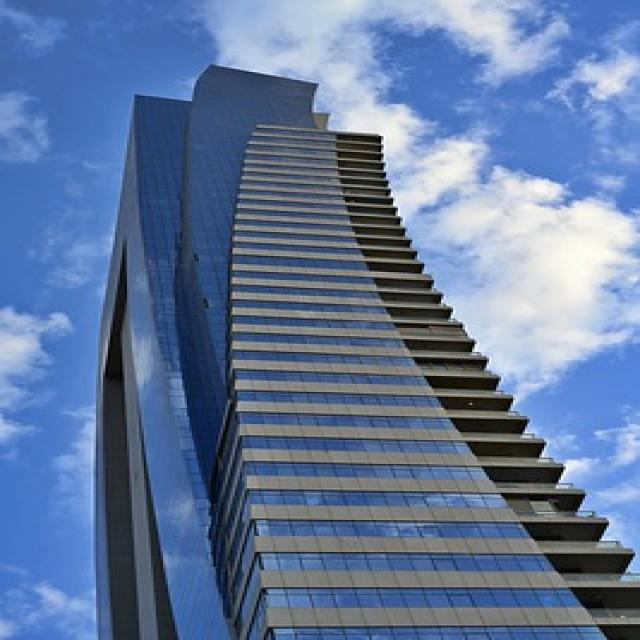building: (79, 60, 640, 638)
